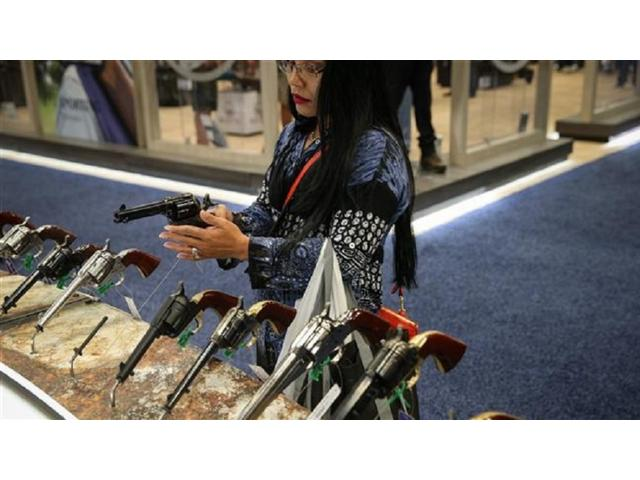pistol: (32, 246, 160, 339), (348, 328, 470, 421), (196, 291, 286, 392), (121, 286, 214, 374), (113, 186, 209, 260)
